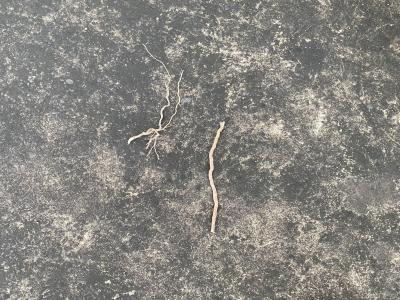Root: (128, 104, 175, 149), (208, 121, 225, 233), (174, 94, 181, 116), (166, 79, 170, 104), (178, 70, 183, 87)
